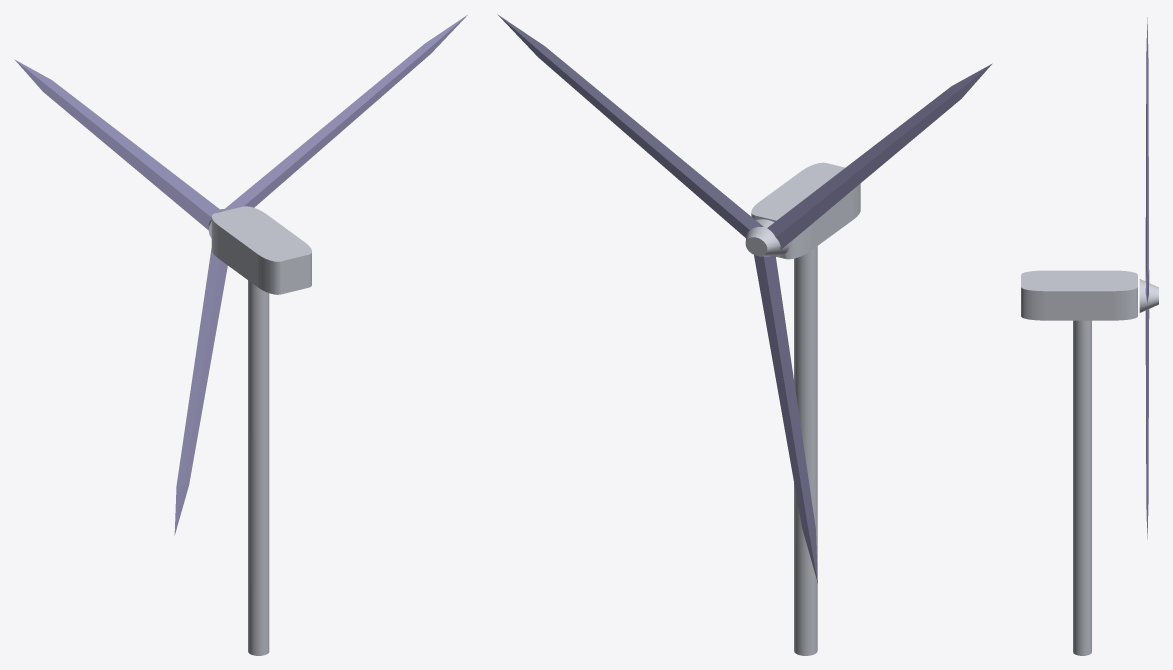
Rendered from city_wind_turbine.obj.
3 views of the same model, side by side, from view 1: azimuth 30°, elevation 25°; view 2: azimuth 150°, elevation 25°; view 3: azimuth 270°, elevation 25° (orthographic). The views are drawn at different scales.
Visible parts, largest first — view 1: city_wind_turbine_city_wind_turbine__defaultMat(Clone).002, city_wind_turbine_city_wind_turbine_metalLight(Clone); view 2: city_wind_turbine_city_wind_turbine_metalLight(Clone), city_wind_turbine_city_wind_turbine__defaultMat(Clone).002; view 3: city_wind_turbine_city_wind_turbine__defaultMat(Clone).002, city_wind_turbine_city_wind_turbine_metalLight(Clone).
Part boxes in pixels (x1,y1,x2,y2): city_wind_turbine_city_wind_turbine__defaultMat(Clone).002: [208, 206, 311, 655]; city_wind_turbine_city_wind_turbine_metalLight(Clone): [14, 15, 467, 535]; city_wind_turbine_city_wind_turbine_metalLight(Clone): [497, 14, 992, 582]; city_wind_turbine_city_wind_turbine__defaultMat(Clone).002: [745, 162, 860, 655]; city_wind_turbine_city_wind_turbine__defaultMat(Clone).002: [1021, 270, 1158, 655]; city_wind_turbine_city_wind_turbine_metalLight(Clone): [1145, 17, 1149, 539].
Bounding box in the file's own units: 3.04 × 3.94 × 0.8975.
